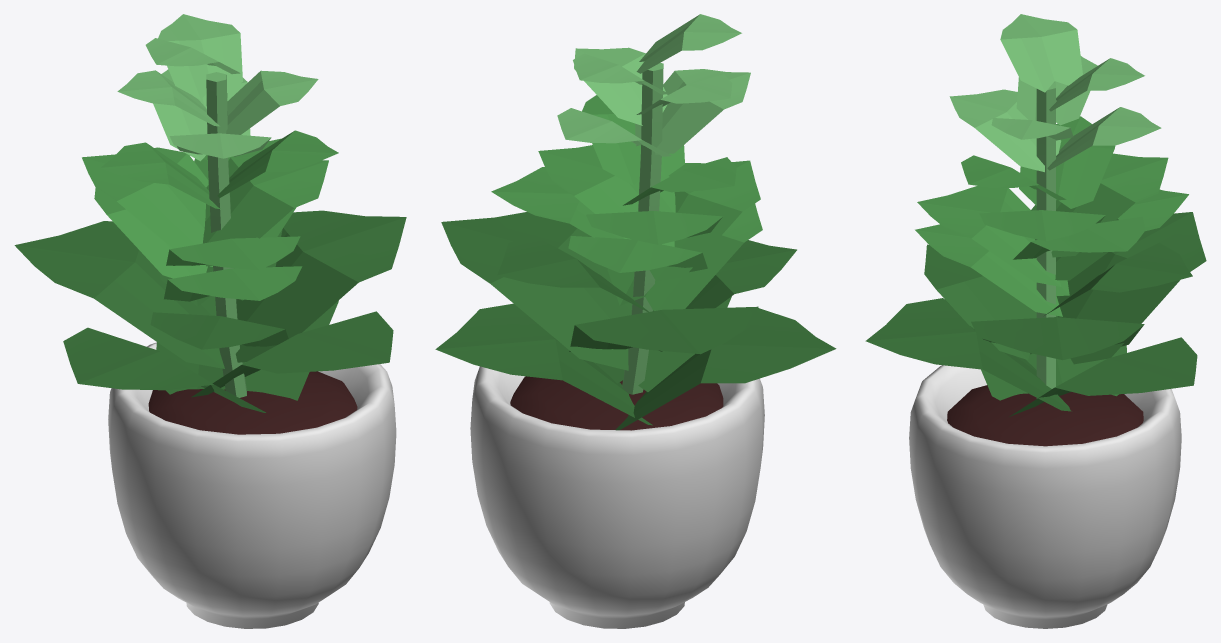
File: Plant_in_a_pot.fbx
3 views of the same model, side by side, from view 1: azimuth 30°, elevation 25°; view 2: azimuth 150°, elevation 25°; view 3: azimuth 270°, elevation 25° (orthographic). The views are drawn at different scales.
Parts seen in each view (by area): view 1: polySurface2459; view 2: polySurface2459; view 3: polySurface2459.
Boxes of the visible parts, box(x1,y1,x2,y2) form: polySurface2459: box(14, 14, 406, 628); polySurface2459: box(435, 14, 836, 628); polySurface2459: box(865, 14, 1206, 628).
Size of the model in its own units: 0.972 by 1.5 by 0.8528.
